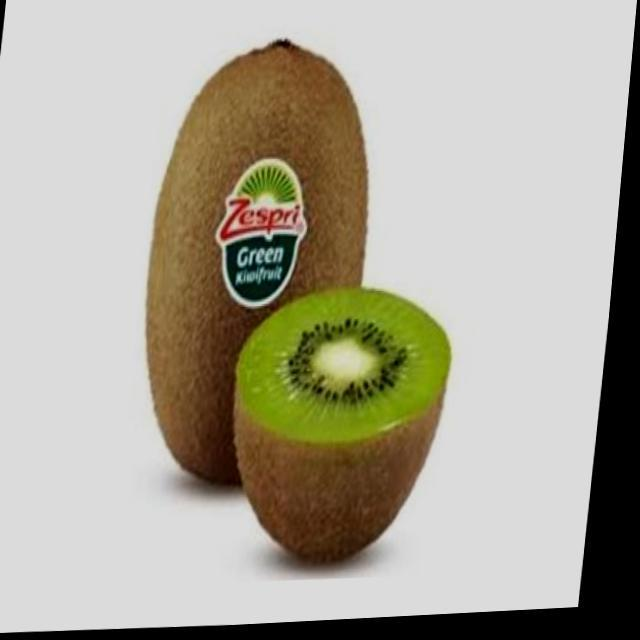kiwi: (131, 37, 392, 495)
